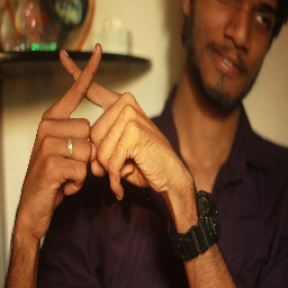X: (39, 38, 139, 143)
